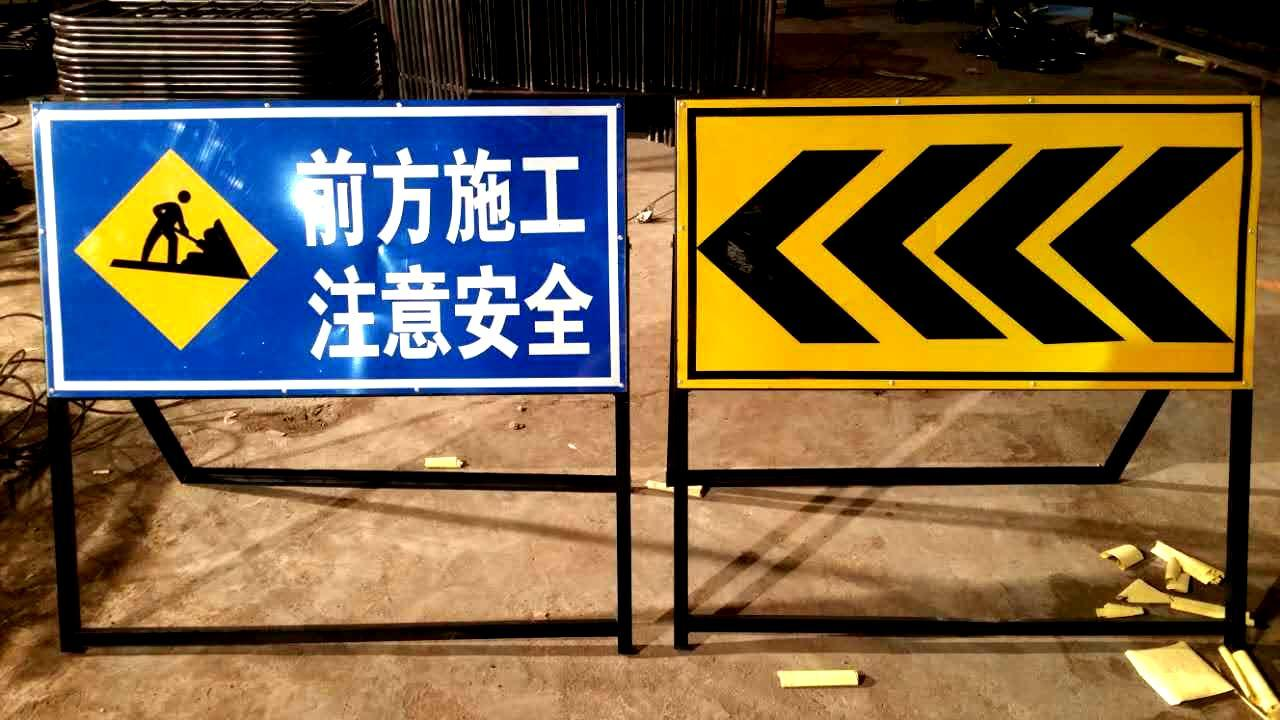sign: (38, 106, 623, 393), (678, 103, 1252, 388)
